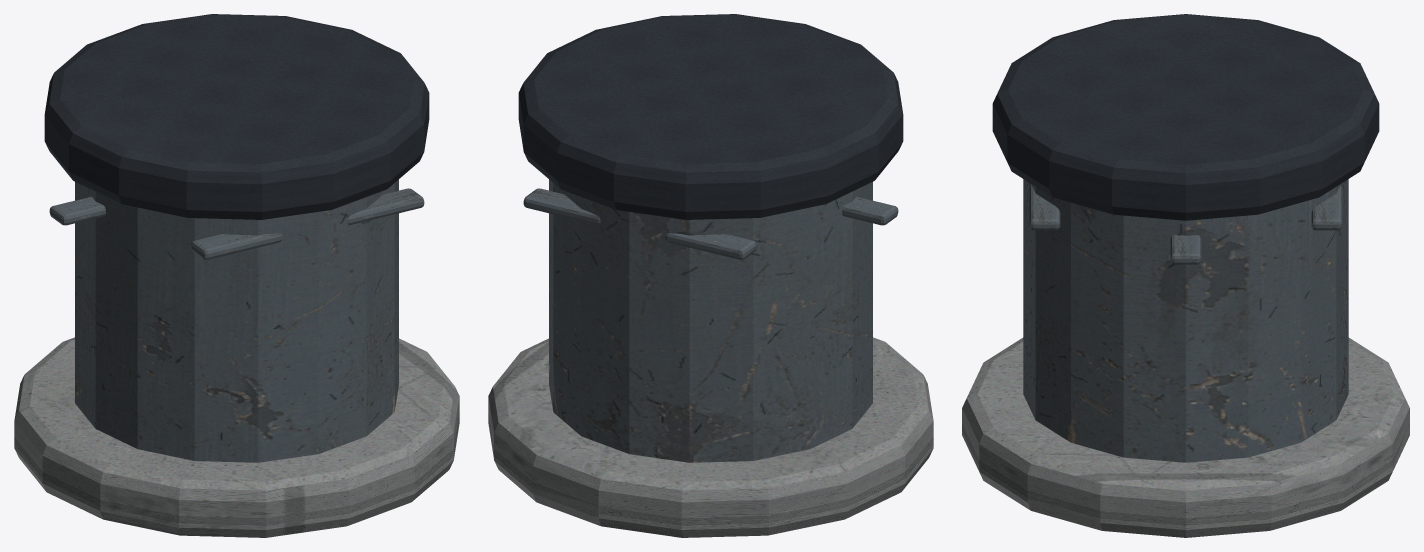
File: cooling_vent.glb
3 renders of one model, left to right at view 1: azimuth 30°, elevation 25°; view 2: azimuth 150°, elevation 25°; view 3: azimuth 270°, elevation 25°, orthographic.
Parts seen in each view (by area): view 1: VentHousing, VentCap, VentBase, VentLouver2, VentLouver1, VentLouver3; view 2: VentHousing, VentCap, VentBase, VentLouver4, VentLouver5, VentLouver3; view 3: VentHousing, VentCap, VentBase, VentLouver1, VentLouver5, VentLouver0.
Part boxes in pixels (<box>): VentHousing: <box>75,179,398,462</box>; VentCap: <box>44,14,429,219</box>; VentBase: <box>14,337,459,537</box>; VentLouver2: <box>191,233,282,259</box>; VentLouver1: <box>347,188,424,225</box>; VentLouver3: <box>49,196,105,225</box>; VentHousing: <box>549,179,872,462</box>; VentCap: <box>518,14,903,219</box>; VentBase: <box>488,337,933,537</box>; VentLouver4: <box>665,233,756,259</box>; VentLouver5: <box>523,188,600,225</box>; VentLouver3: <box>842,196,898,225</box>; VentHousing: <box>1023,179,1348,462</box>; VentCap: <box>992,14,1379,220</box>; VentBase: <box>962,337,1409,537</box>; VentLouver1: <box>1029,185,1060,230</box>; VentLouver5: <box>1311,185,1342,230</box>; VentLouver0: <box>1170,235,1201,264</box>.
Bounding box in the file's own units: 4.4 × 3.9 × 4.4.
Materials: 3 (3 with a texture image).
